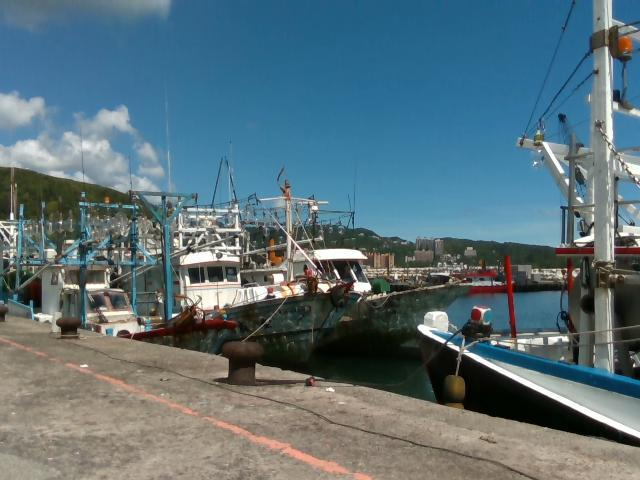pollute: (325, 386, 338, 395), (78, 362, 95, 367)
